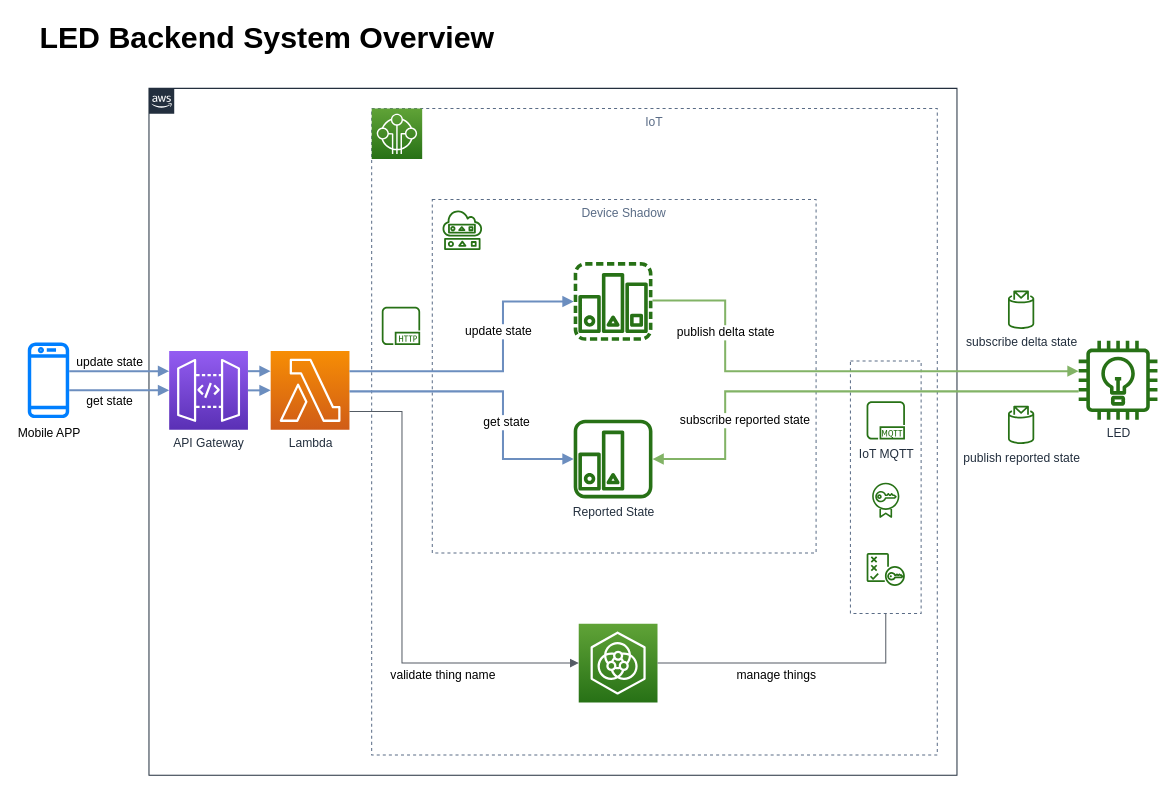
This 1175x793 diagram has some shape labels left out. Each missing label, with the centre of its shape:
"Desired State" belongs at (612,301).
"Device Management" belongs at (618,662).
"IoT HTTP" belongs at (400,325).
"Policy" belongs at (885,568).
"X.509" belongs at (885,500).
